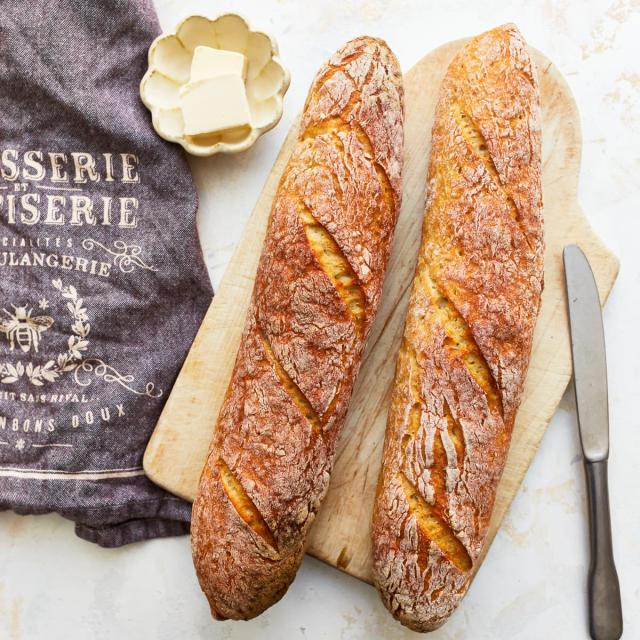Baguette: (191, 36, 404, 620), (372, 25, 545, 631)
